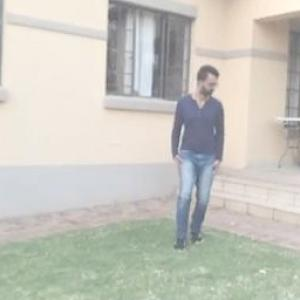follow: (171, 57, 229, 256)
